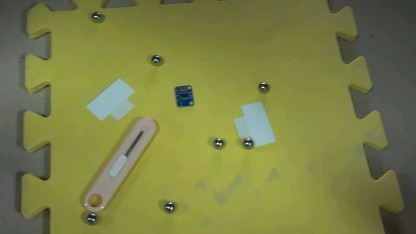ironball: (147, 48, 162, 66), (254, 77, 269, 92), (84, 209, 99, 224), (88, 9, 105, 22), (242, 134, 254, 150), (163, 199, 175, 214), (211, 136, 222, 147)
